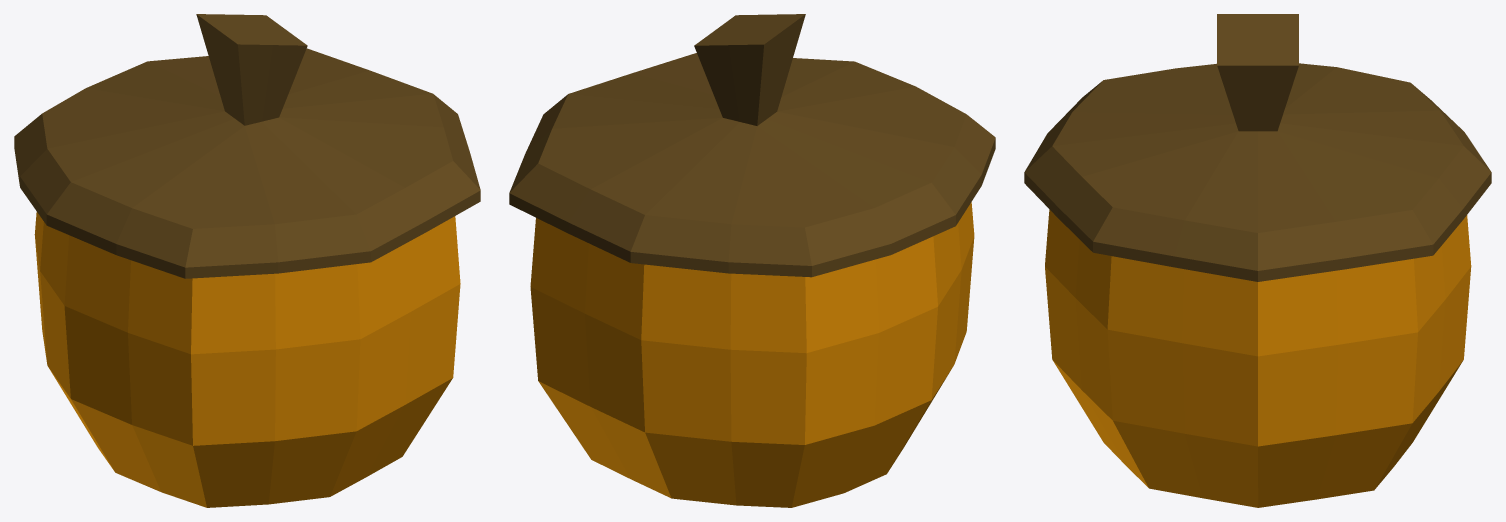
The model's file is acorn.fbx.
3 renders of one model, left to right at view 1: azimuth 30°, elevation 25°; view 2: azimuth 150°, elevation 25°; view 3: azimuth 270°, elevation 25°, orthographic.
Visible parts, largest first — view 1: Cube; view 2: Cube; view 3: Cube.
Part boxes in pixels (x1,y1,x2,y2): Cube: (14, 14, 480, 507); Cube: (509, 14, 995, 507); Cube: (1024, 14, 1491, 507).
Bounding box in the file's own units: 2.27 × 2.47 × 2.27.
